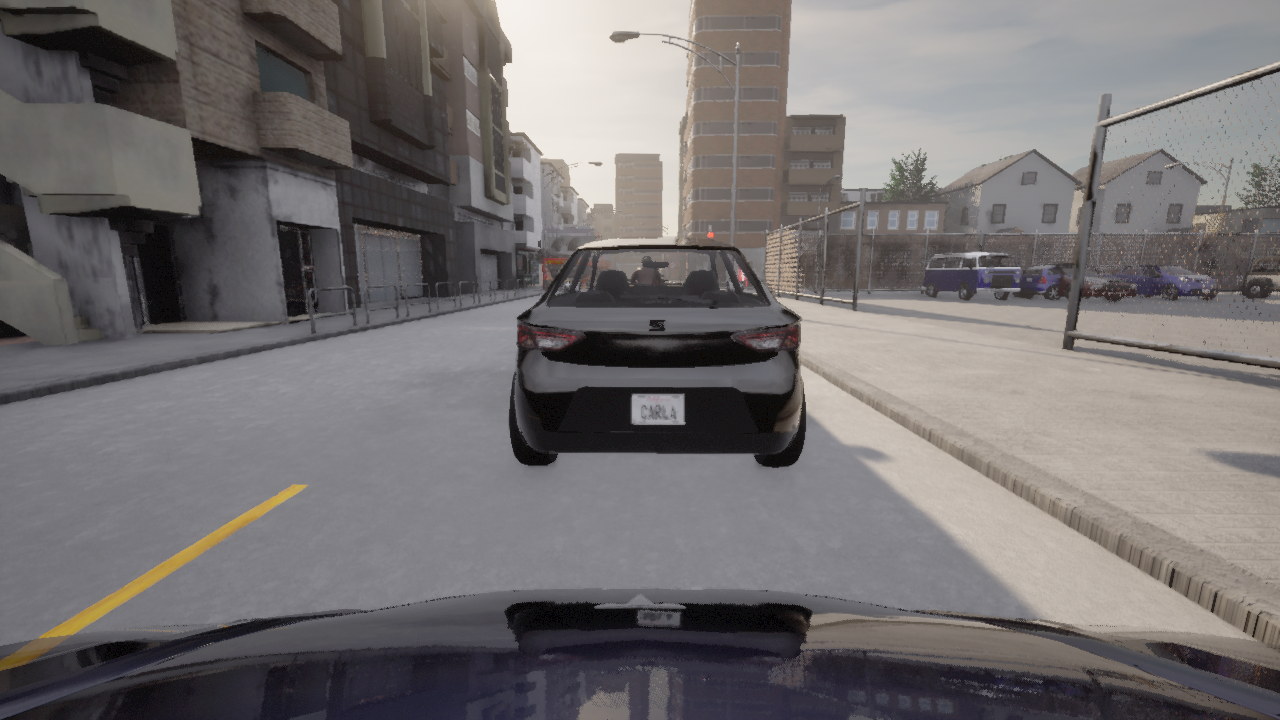cyclist: (0, 588, 1279, 719), (508, 237, 806, 466), (922, 252, 1020, 299), (537, 223, 605, 289), (1018, 263, 1121, 299), (1012, 271, 1138, 300), (1113, 265, 1217, 299), (1239, 256, 1279, 298)
pedestrian: (953, 291, 957, 292)
